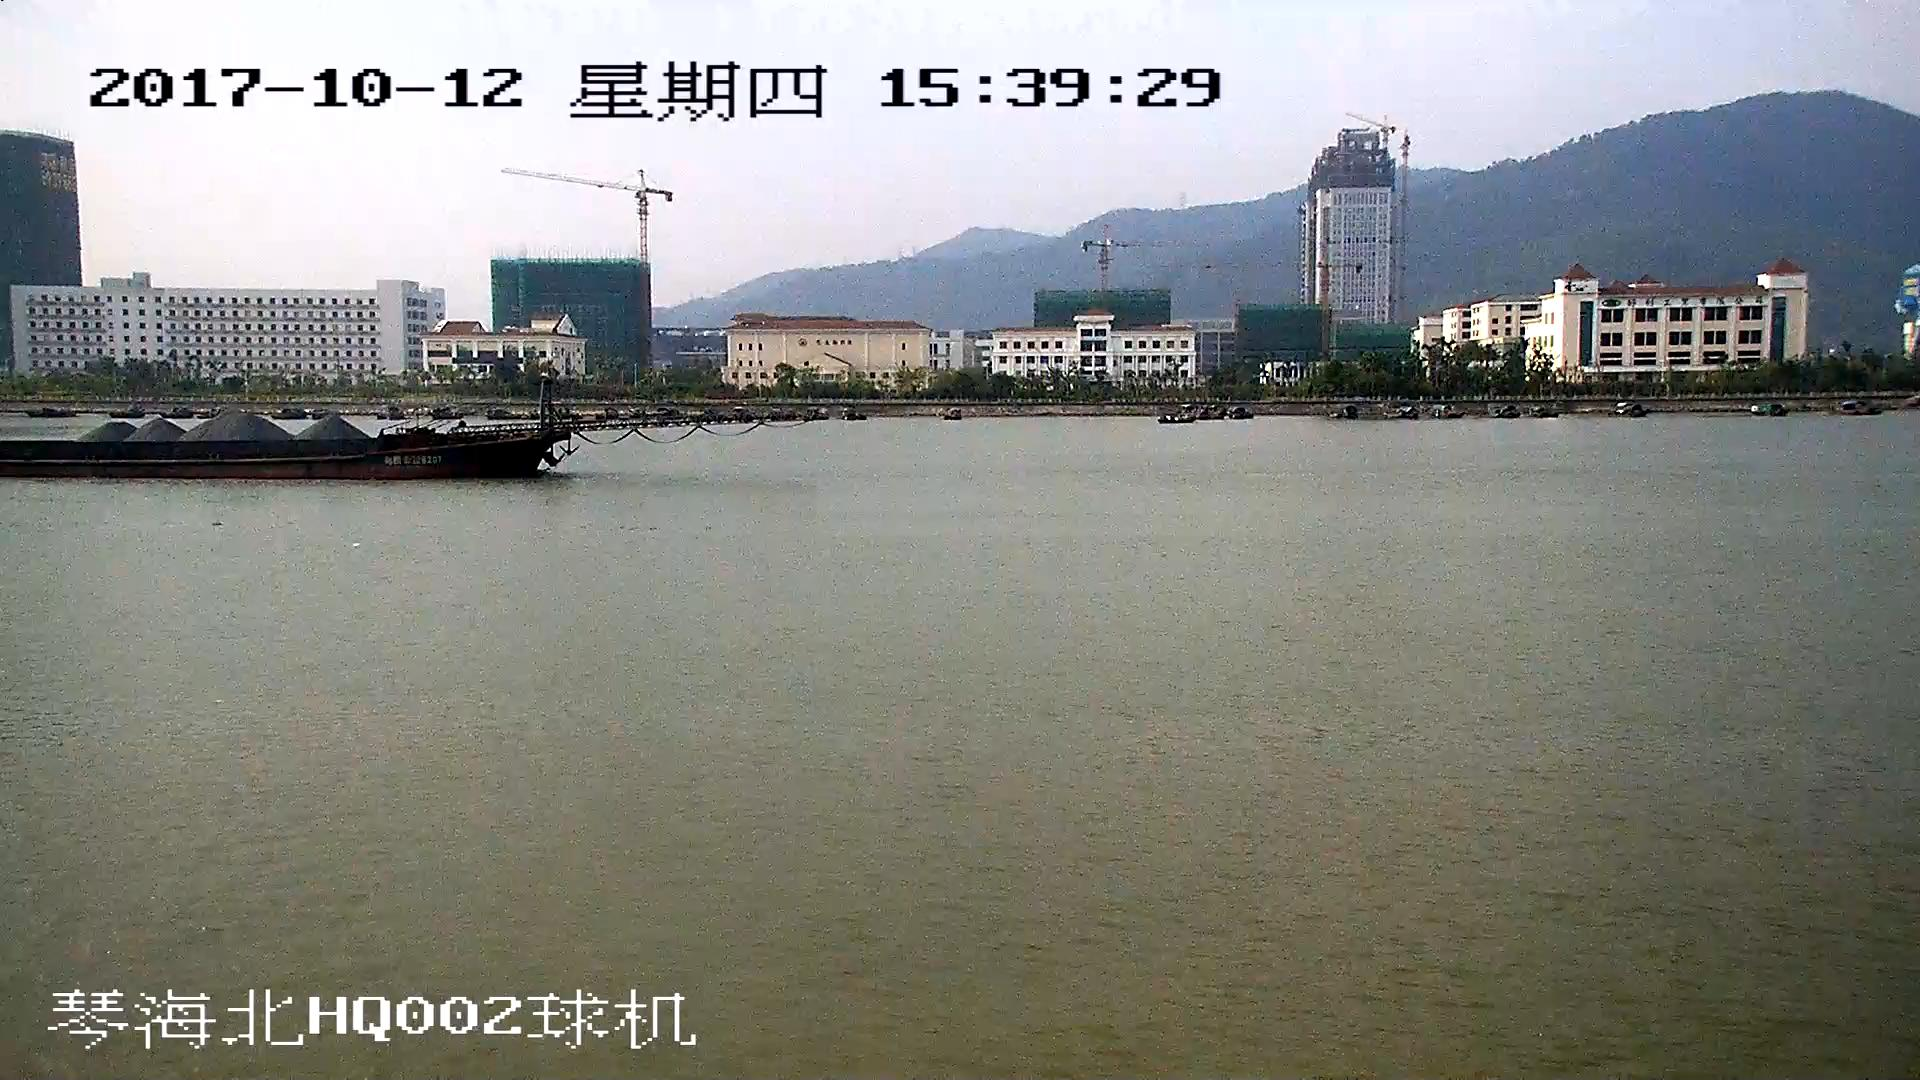ore carrier: (1, 365, 770, 473)
